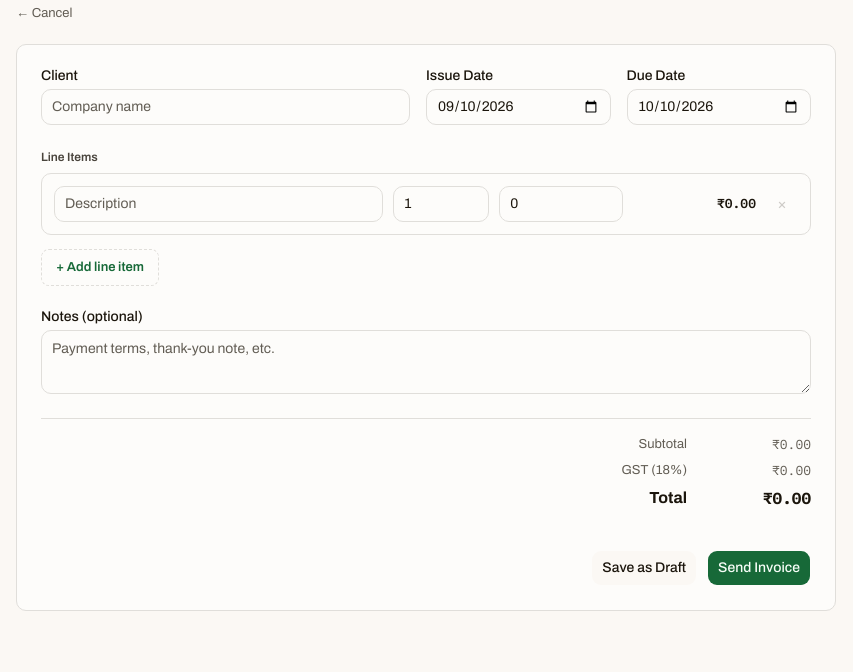
Scenario: InvoiceForm › blocks an empty submit and shows field errors
Click the button "Send Invoice" at (759, 568), box [707, 550, 811, 586]
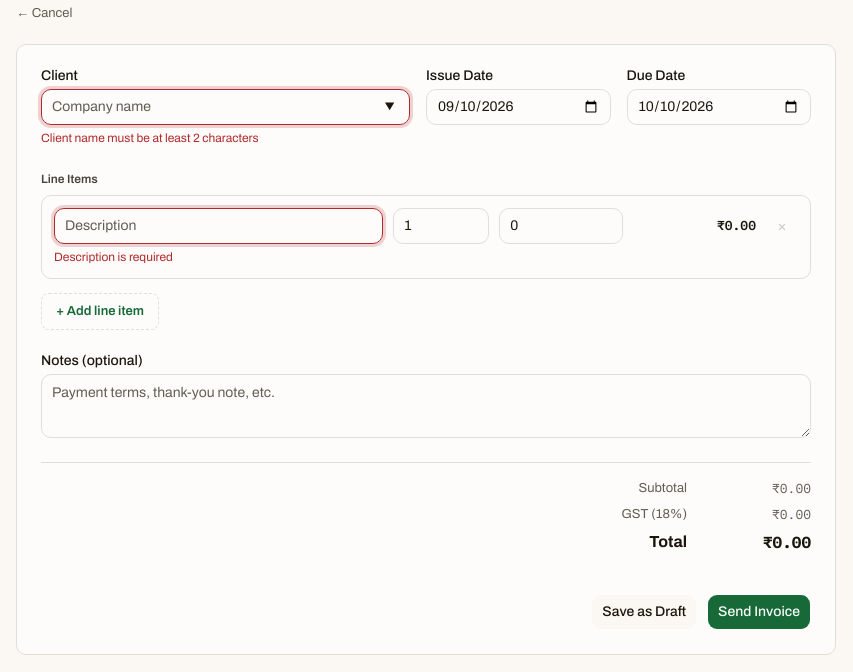
Expected: the text "Client name must be at least 2 characters" is shown, [41, 130, 259, 144]
Expected: the text "Description is required" is shown, [54, 250, 173, 264]
